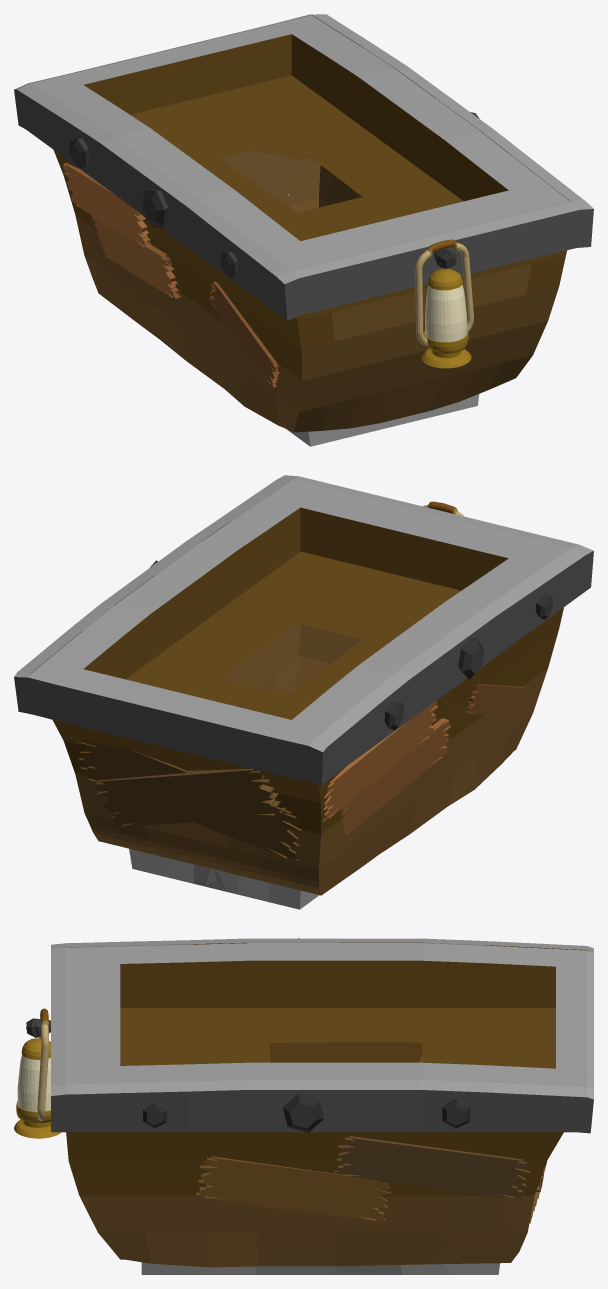
The model's file is mineiro kartzinho oficial.fbx.
3 views of the same model, one above another, from view 1: azimuth 30°, elevation 25°; view 2: azimuth 150°, elevation 25°; view 3: azimuth 270°, elevation 25° (orthographic).
Parts seen in each view (by area): view 1: kart.001, madeiritchas, alça lamparina; view 2: kart.001, madeiritchas; view 3: kart.001, madeiritchas, alça lamparina.
Part boxes in pixels (box(x1,y1,x2,y2)): kart.001: box(14, 14, 593, 446); madeiritchas: box(63, 150, 302, 387); alça lamparina: box(415, 239, 473, 368); kart.001: box(14, 475, 593, 909); madeiritchas: box(77, 684, 527, 861); kart.001: box(26, 938, 593, 1274); madeiritchas: box(196, 1055, 546, 1223); alça lamparina: box(14, 1008, 60, 1138).
Bounding box in the file's own units: 197 × 127 × 301.
